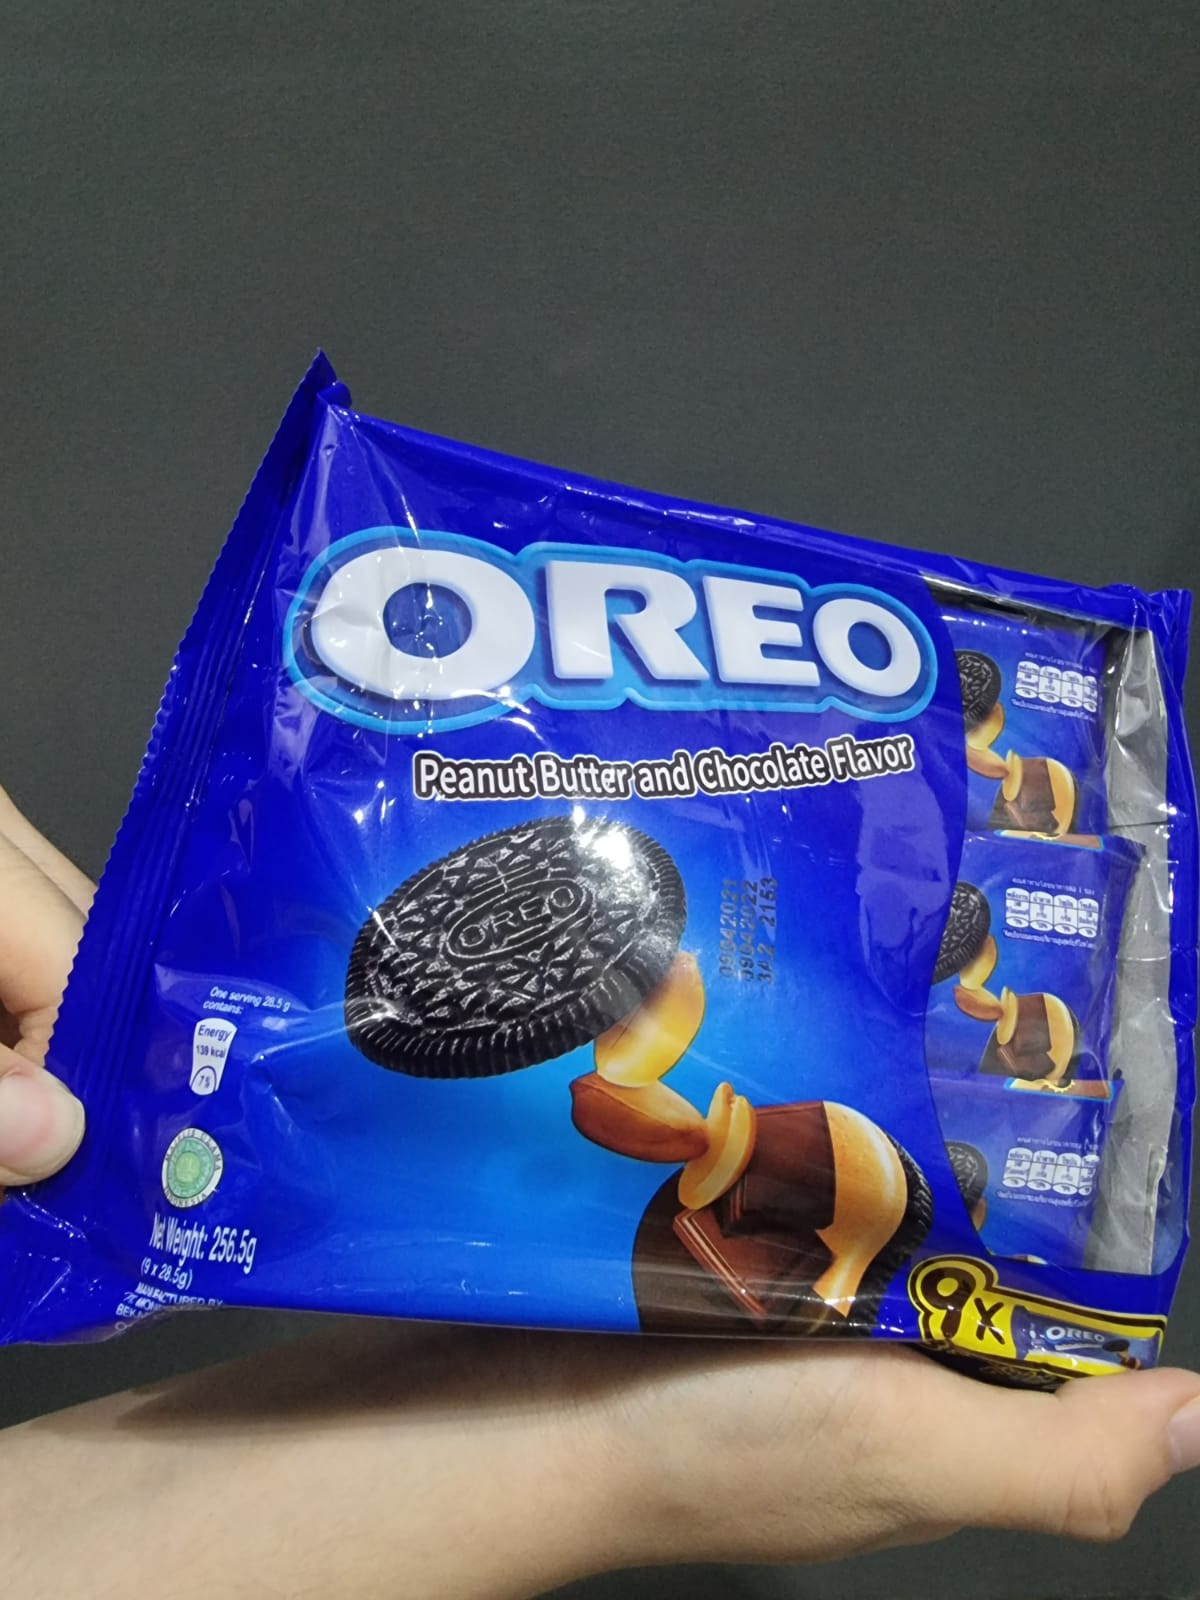Biscuits: (241, 508, 1167, 1330)
